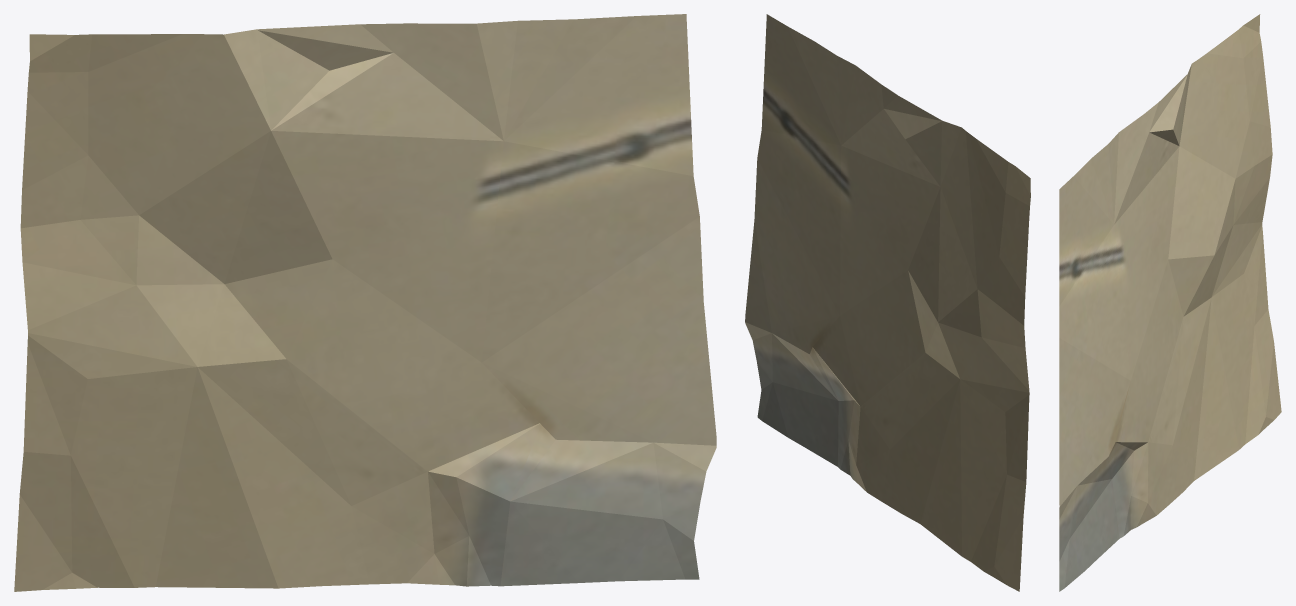
The picture shows the model from 3 angles, left to right: view 1: azimuth 30°, elevation 25°; view 2: azimuth 150°, elevation 25°; view 3: azimuth 270°, elevation 25°; orthographic projection. The views are drawn at different scales.
Size of the model in its own units: 0.8374 by 0.8374 by 0.4237.
Materials: 3 (3 with a texture image).
